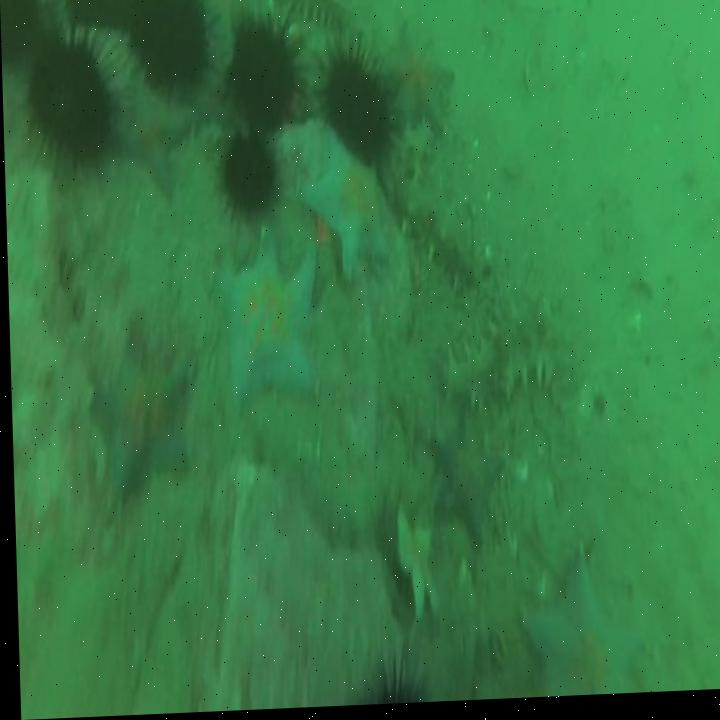echinus: (24, 46, 112, 168), (128, 0, 210, 102), (224, 17, 294, 127), (327, 48, 391, 165), (219, 140, 272, 216)
holothurian: (440, 310, 558, 410), (395, 172, 485, 296), (276, 0, 350, 29)
starfish: (211, 224, 318, 414), (518, 548, 641, 702), (87, 325, 188, 491), (301, 154, 389, 283), (424, 411, 504, 538), (387, 23, 455, 136), (390, 511, 438, 620)
